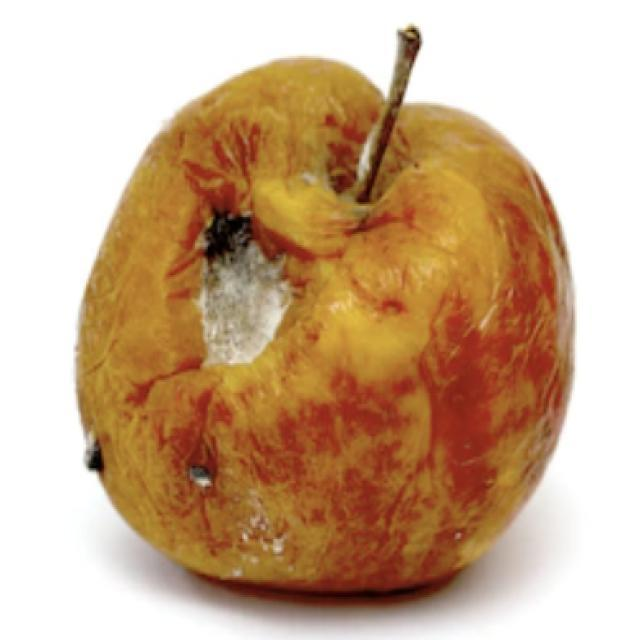Rotten: (76, 53, 576, 595)
